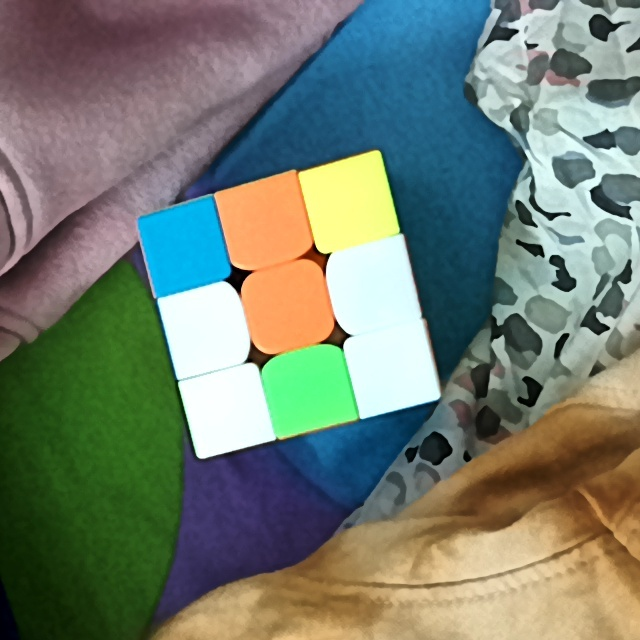tile: (345, 253, 408, 319), (150, 217, 216, 279), (362, 338, 428, 400), (232, 190, 295, 254), (171, 300, 238, 360), (318, 170, 380, 234), (257, 276, 321, 338), (277, 358, 342, 419), (194, 380, 256, 439)
